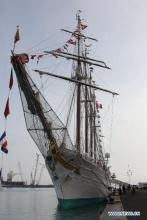fanchuan: (6, 9, 116, 212)
